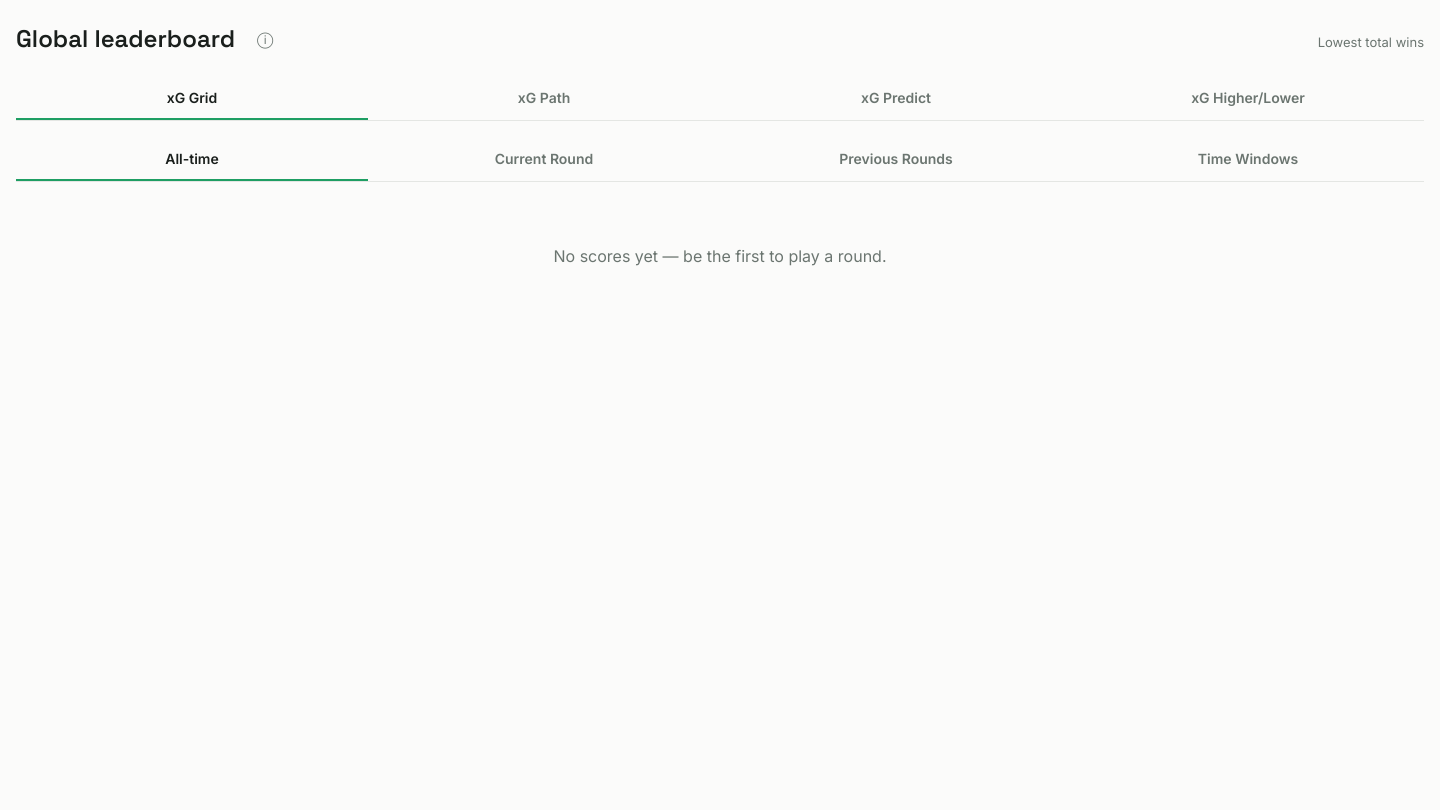
Test case: LeaderboardScreen › scoring explainer entry point › REQ-213: opens regardless of which scope tab is active — "Previous Rounds"
Expected: the text "No scores yet — be the first to play a round." is shown, [554, 246, 886, 266]
Click the tab "Previous Rounds": (896, 159) [720, 137, 1072, 181]
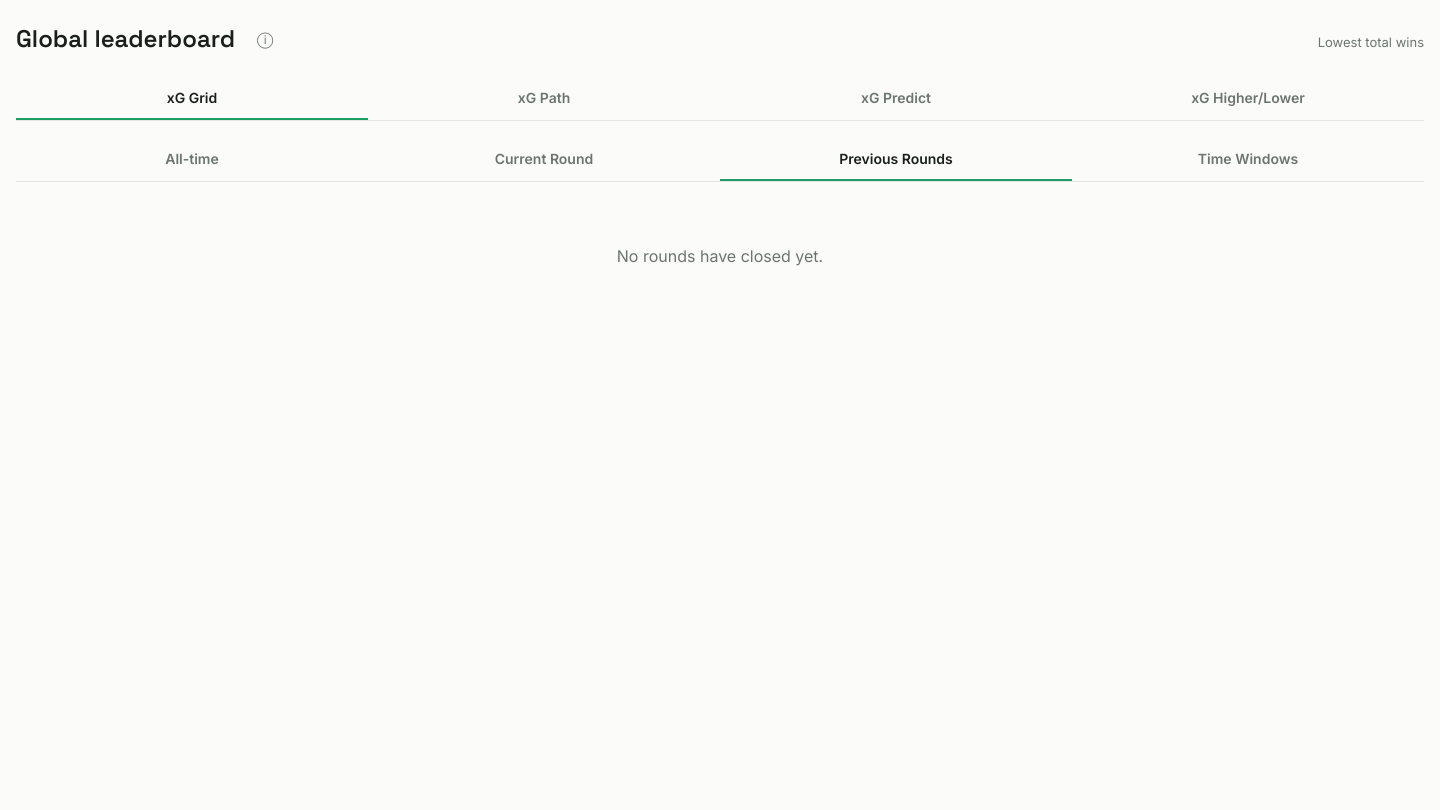
Now the text "No rounds have closed yet." is shown, box [617, 246, 823, 266]
Click the button named "How scoring works": (265, 38) [243, 16, 287, 60]
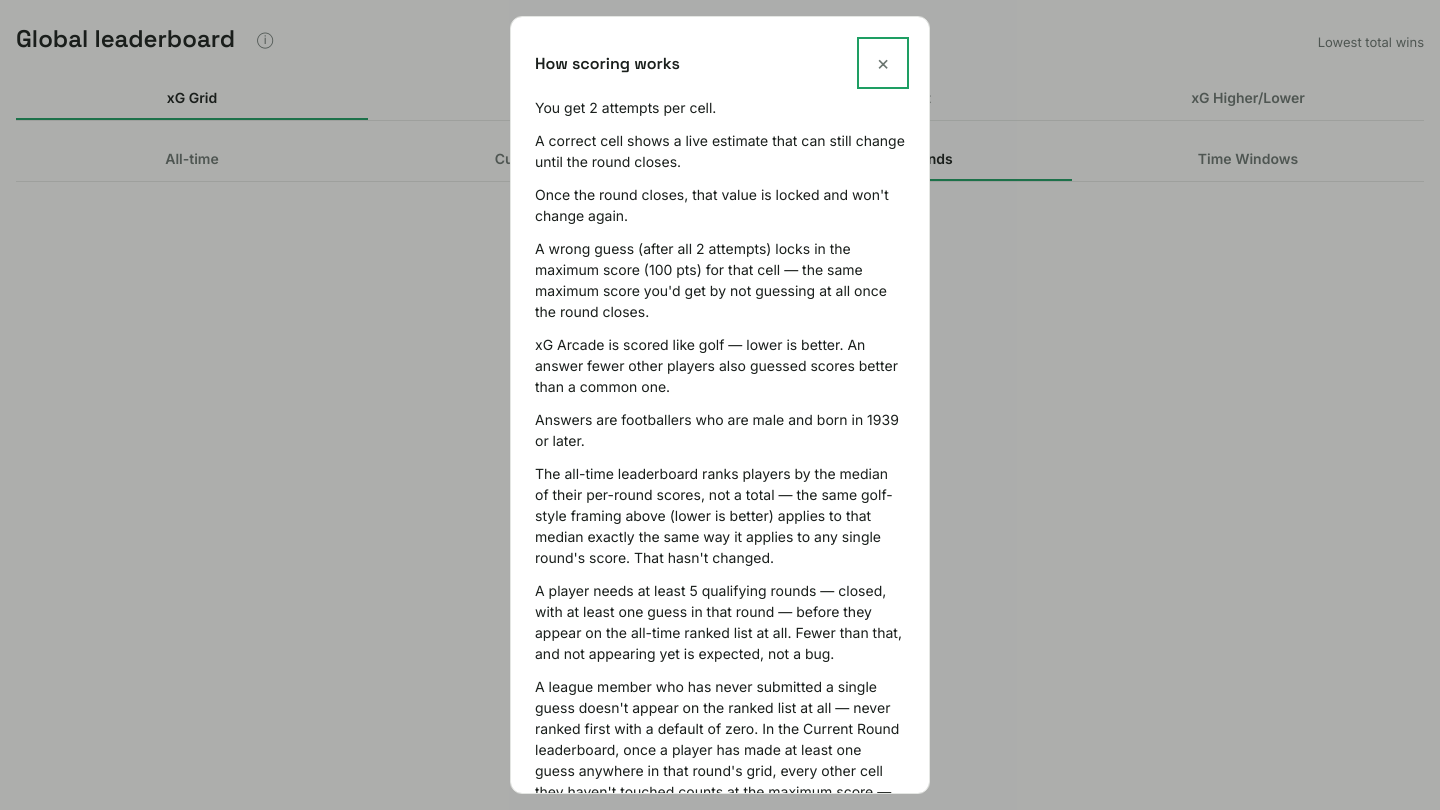
Now the dialog "How scoring works" is shown, box [510, 16, 930, 794]
